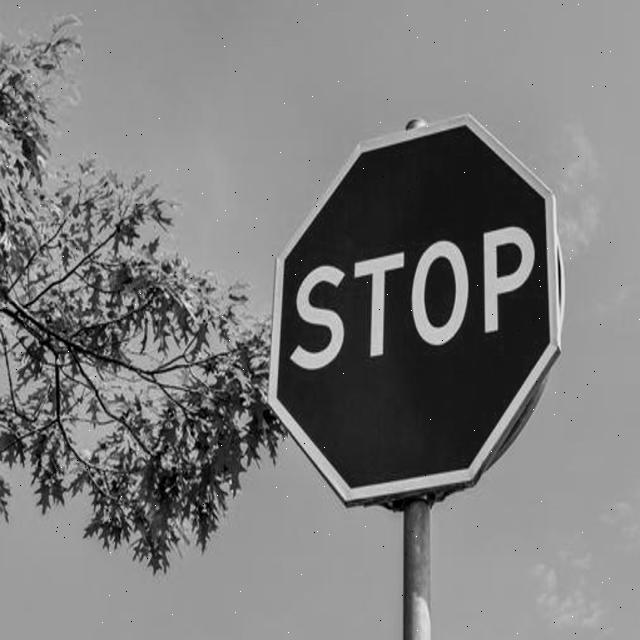Stop-sign: (259, 101, 592, 522)
